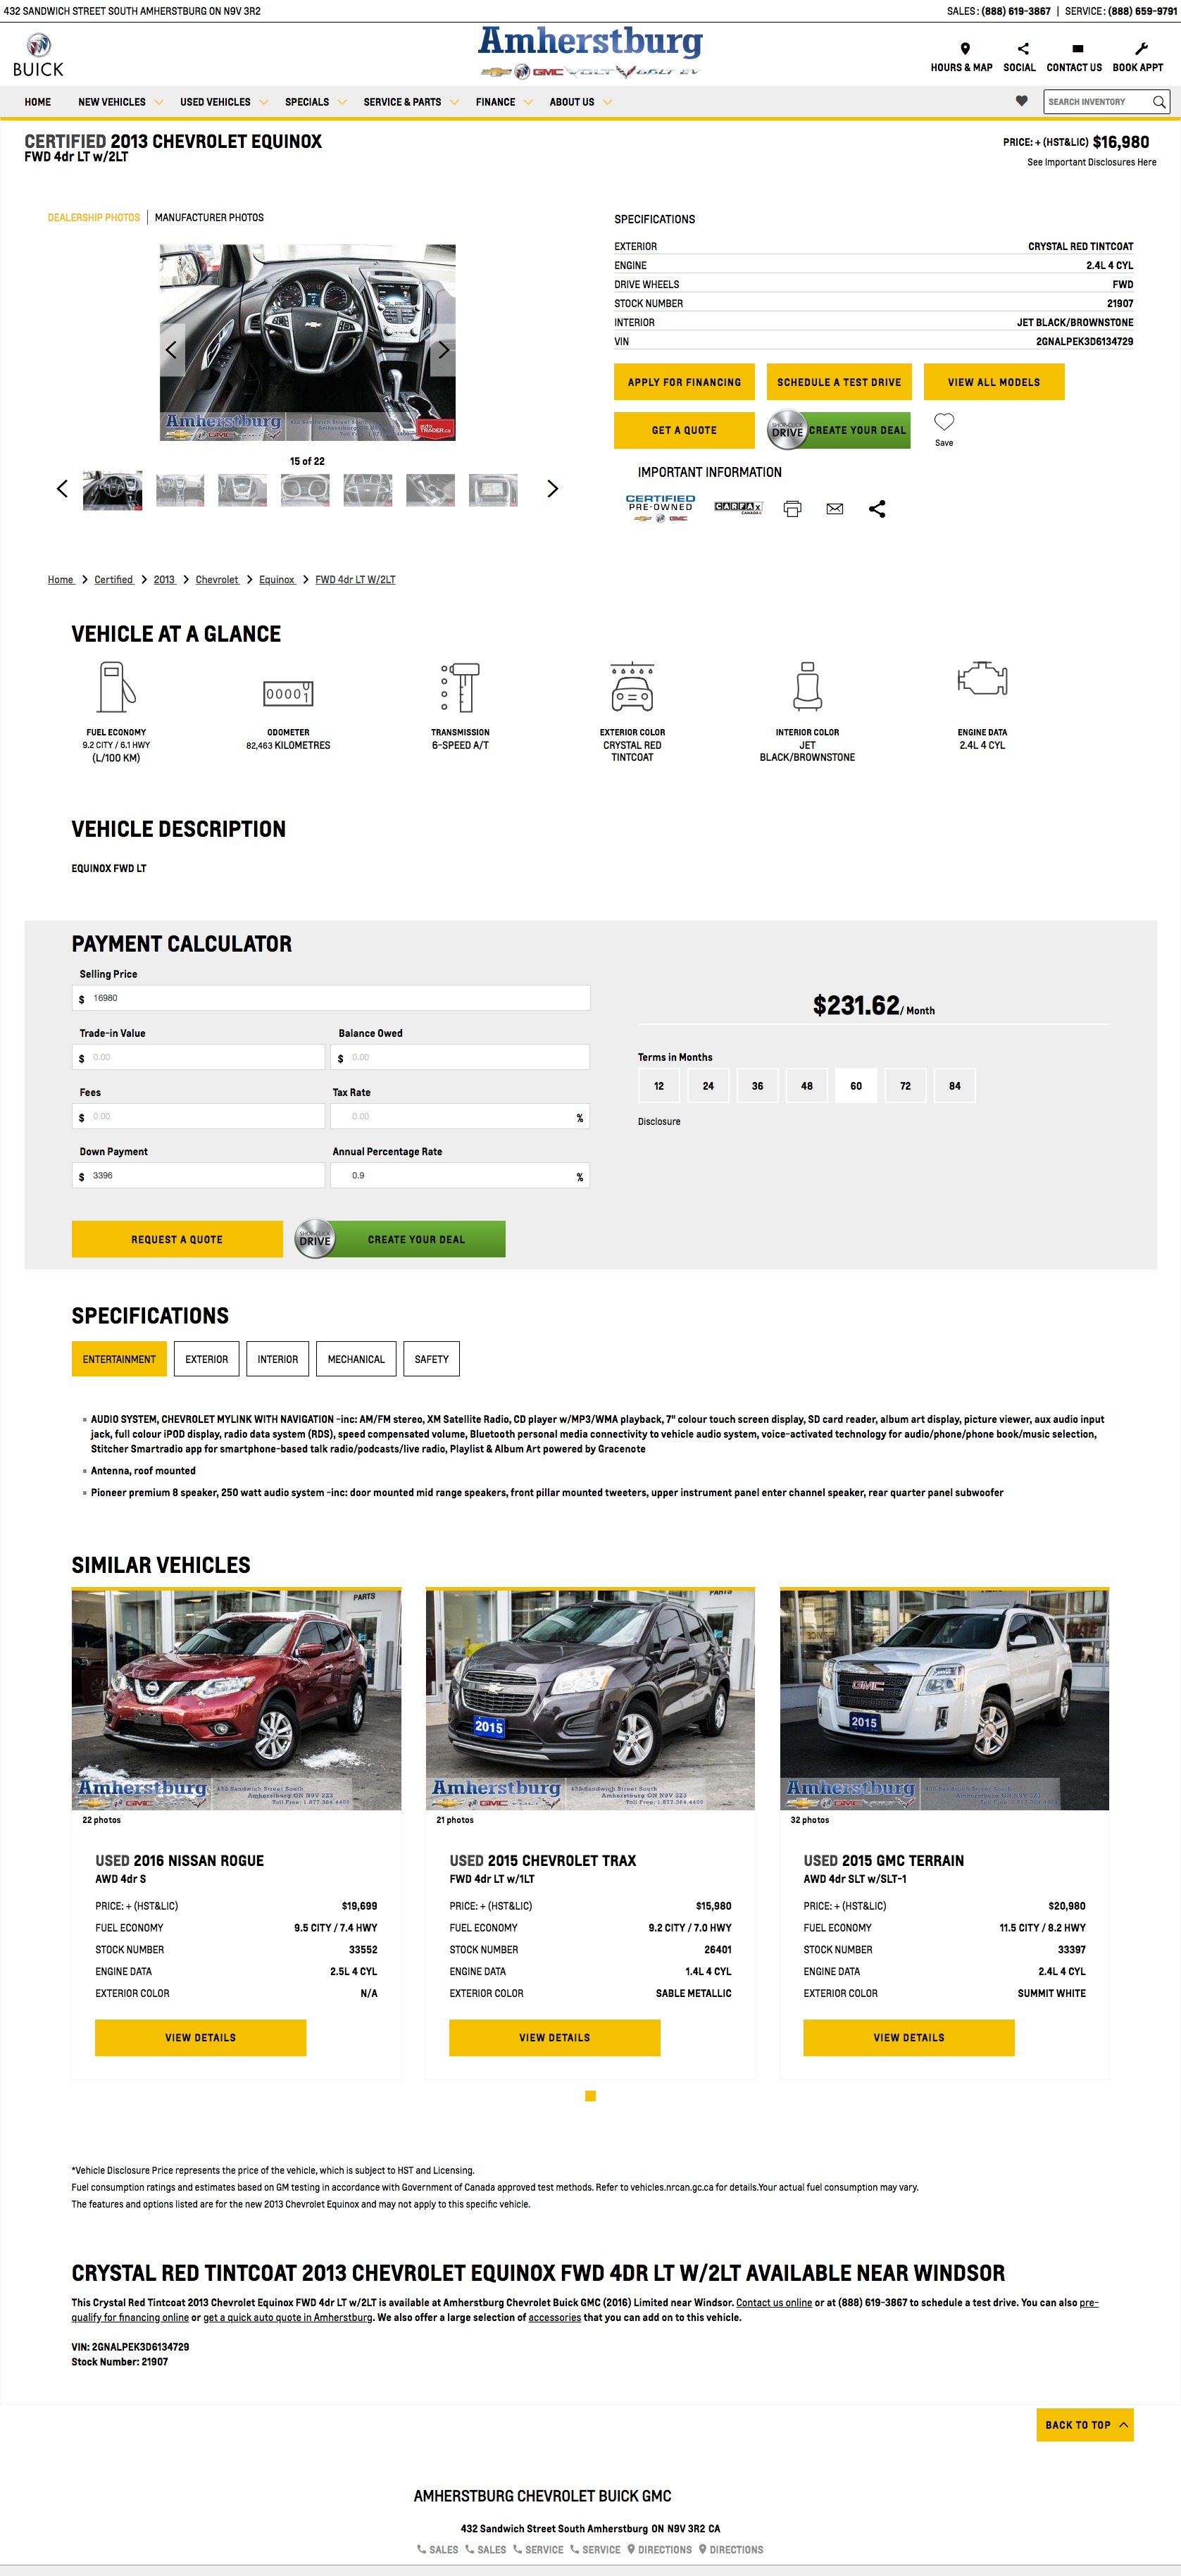car: (545, 480, 560, 499)
